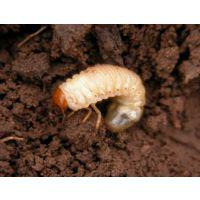grub: (54, 61, 145, 132)
